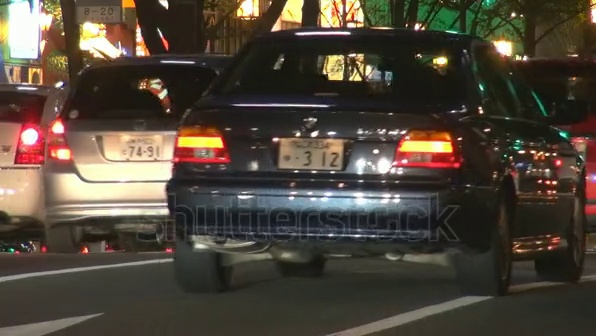licenseplate: (279, 131, 359, 174), (122, 137, 165, 159)
